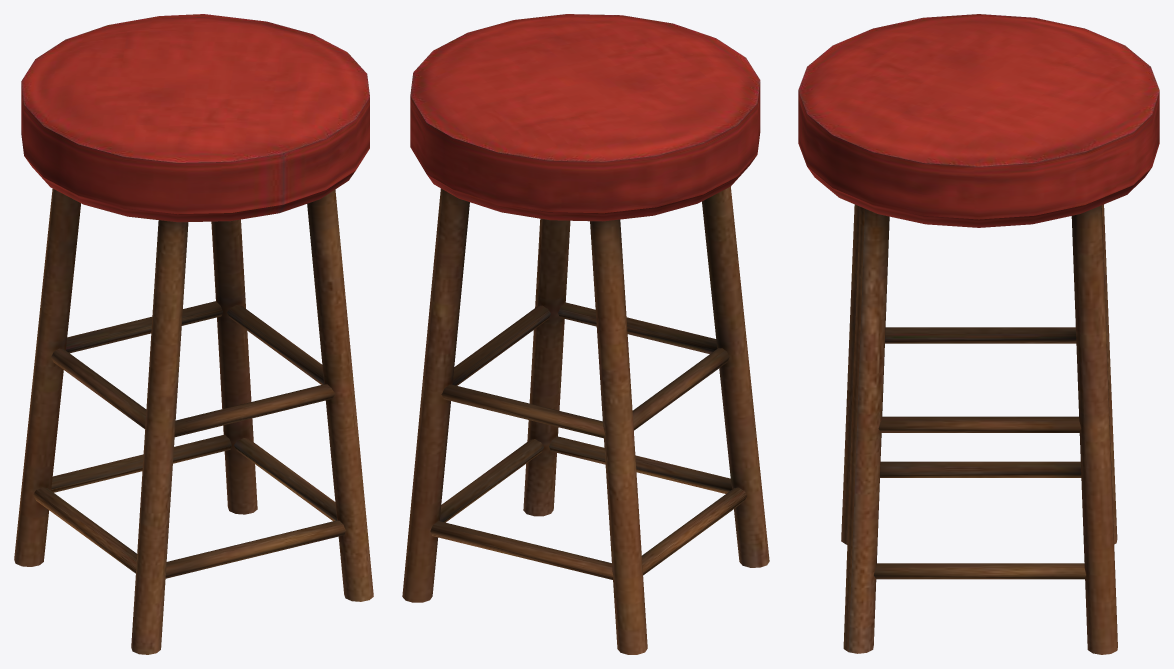
Rendered from bar-stool.glb.
3 views of the same model, side by side, from view 1: azimuth 30°, elevation 25°; view 2: azimuth 150°, elevation 25°; view 3: azimuth 270°, elevation 25° (orthographic). The views are drawn at different scales.
Parts seen in each view (by area): view 1: Object_5; view 2: Object_5; view 3: Object_5.
Boxes of the visible parts, x1,y1,x2,y2 form: Object_5: (14, 14, 373, 654); Object_5: (402, 14, 769, 654); Object_5: (798, 14, 1159, 654).
Size of the model in its own units: 20.84 by 32.68 by 20.84.
Materials: 1 (1 with a texture image).
